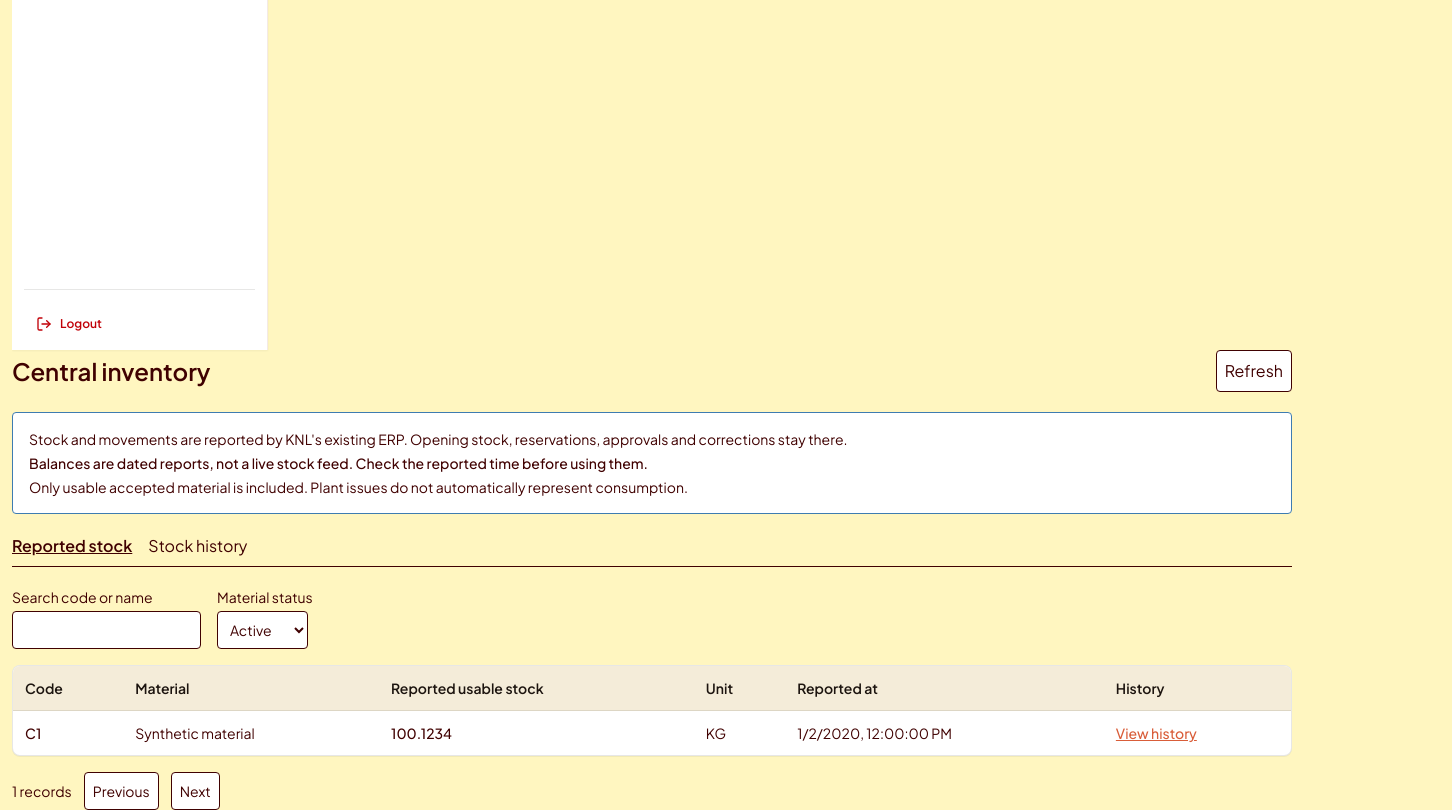
Scenario: source unit conversion is visible while stock quantities stay exact strings
(page scrolled)
What coordinates should you click on to do the following:
click the button "Stock history"
I would click on:
 (198, 546)
Its box is [148,534,247,558].
(page scrolled)
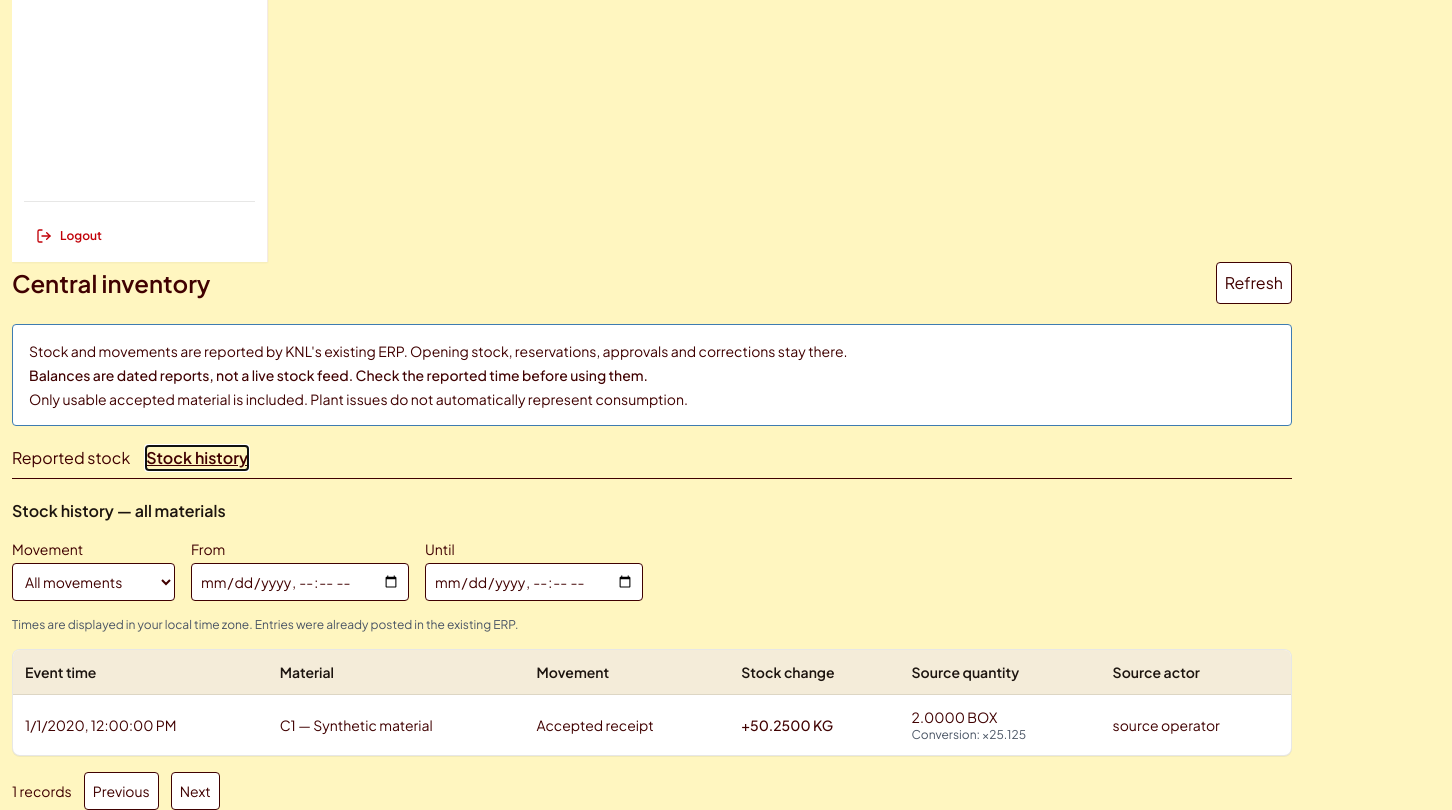
expect the text "+50.2500 KG" is shown: met, box [729,694,900,755]
expect the text "2.0000 BOX" is shown: met, box [900,694,1100,755]
expect the text "Conversion: ×25.125" is shown: met, box [912,727,1026,742]
